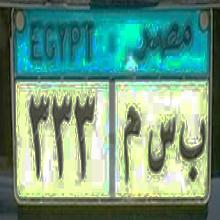3: (74, 94, 97, 183), (28, 92, 50, 182), (50, 94, 72, 180)
baa: (177, 117, 206, 182)
meem: (120, 104, 143, 185)
seen: (146, 108, 176, 179)
